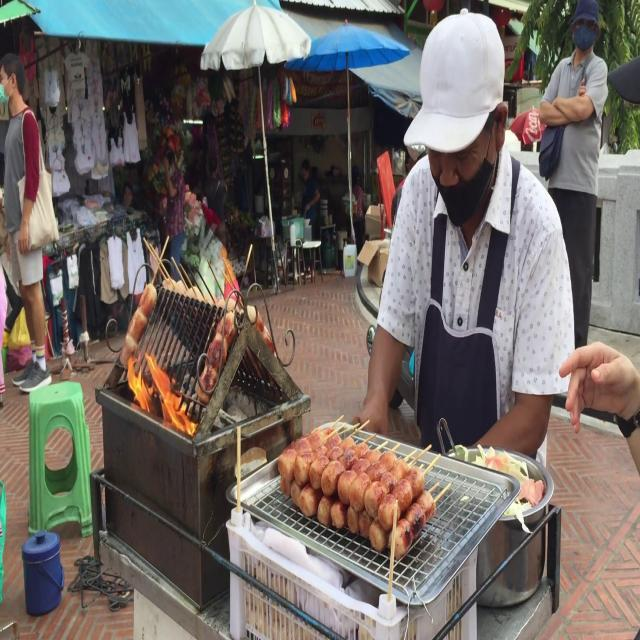Fire: (116, 278, 196, 446)
